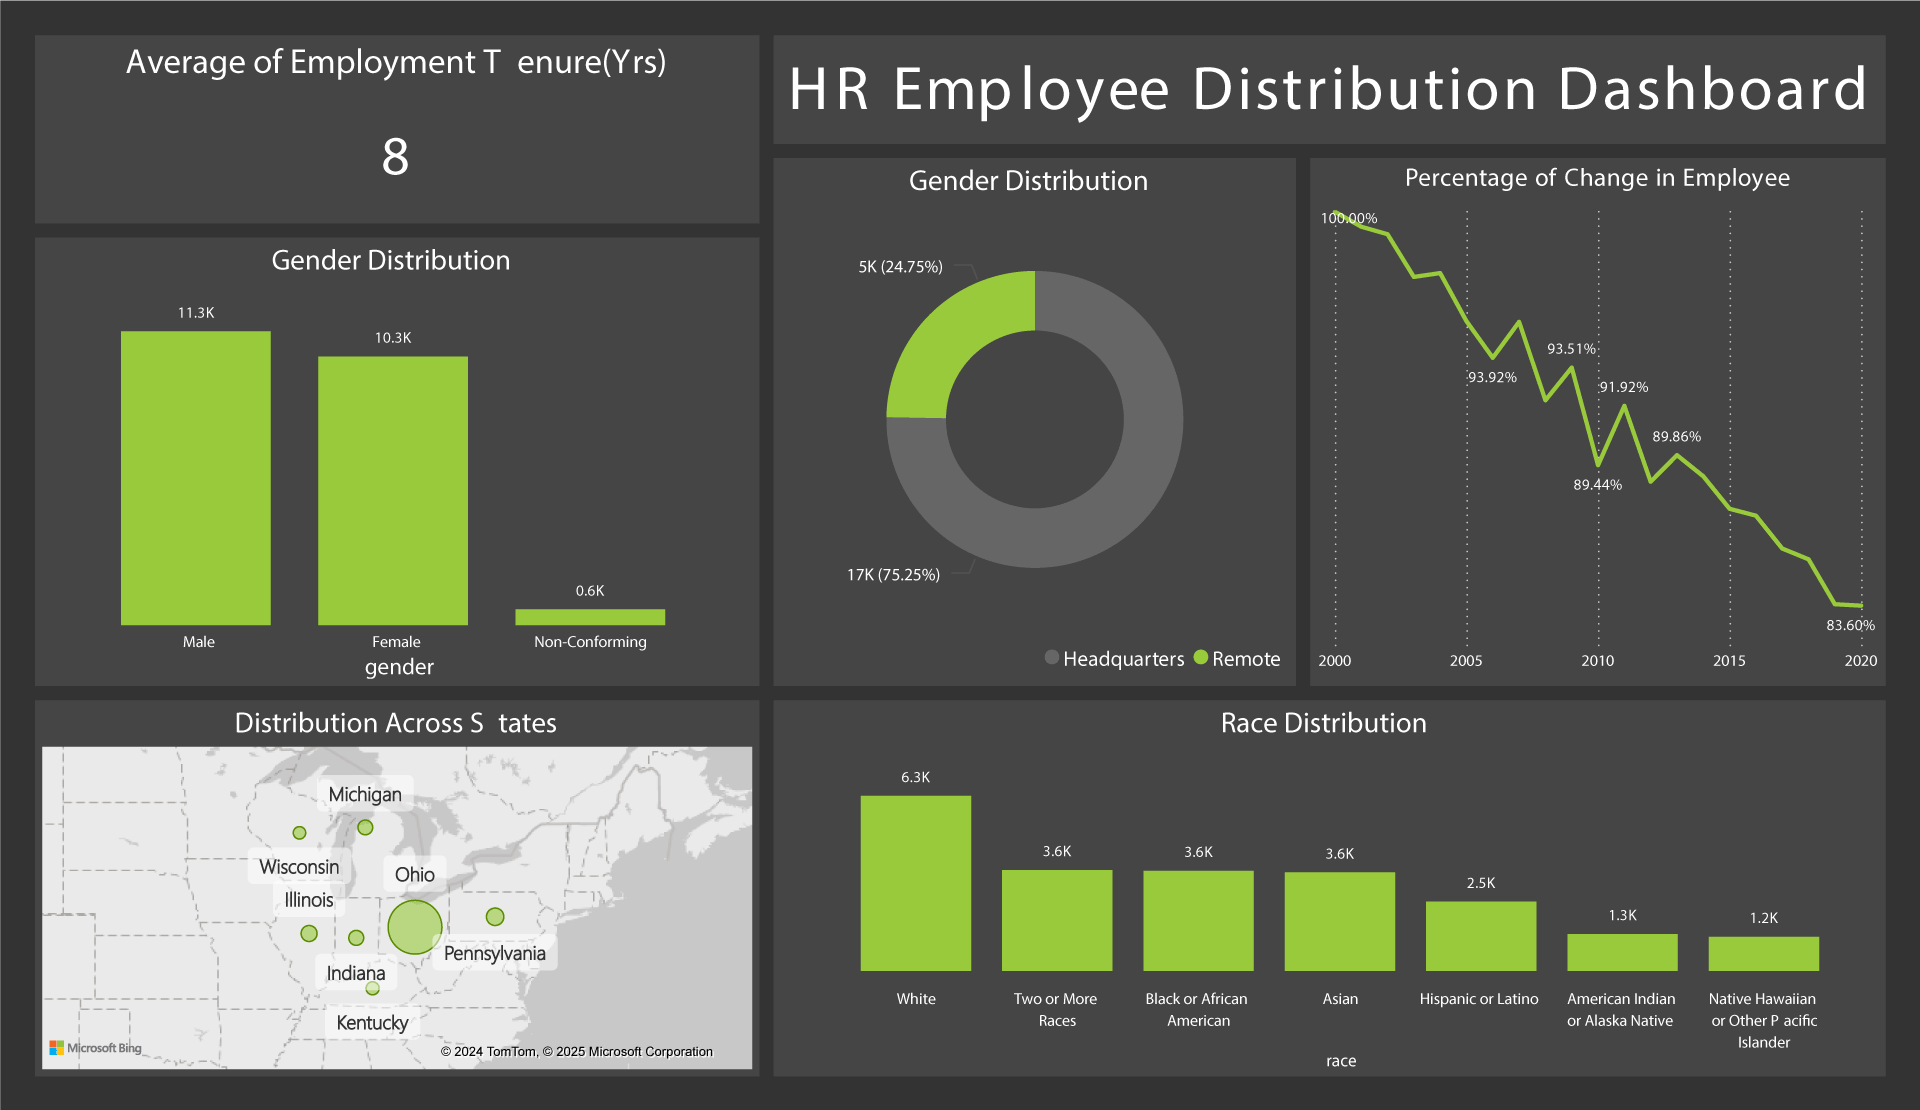

The dashboard page shown, as its layout file describes it:
{"tool":"powerbi","page":{"name":"Page 1","canvas":[1280,720],"ordinal":0},"visuals":[{"type":"card","title":"Average of Employment Tenure(Yrs)","fields":{"Values":["Avg(HR.employment_tenure)"]},"box":[0,0,501,130],"z":0},{"type":"columnChart","title":"Gender Distribution","fields":{"Category":["HR.gender"],"Y":["CountNonNull(HR.emp_id)"]},"box":[0,140,501,310],"z":1000},{"type":"map","title":"Distribution Across States","fields":{"Size":["CountNonNull(HR.location_state)"],"Category":["HR.location_state"]},"box":[0,460,501,260],"z":2000},{"type":"donutChart","title":"Gender Distribution","fields":{"Y":["CountNonNull(HR.emp_id)"],"Category":["HR.location"]},"box":[510.6,84.6,361.8,365.7],"z":3000},{"type":"textbox","box":[511,0,769,75],"z":4000},{"type":"lineChart","title":"Percentage of Change in Employee","fields":{"Category":["employee_change.Year"],"Y":["Avg(employee_change.net_change_percent)"]},"box":[882.2,84.6,397.8,365.7],"z":5000},{"type":"columnChart","title":"Race Distribution","fields":{"Category":["HR.race"],"Y":["CountNonNull(HR.emp_id)"]},"box":[510.6,460.1,769.4,259.7],"z":6000}]}

Visuals, with their boxes in screenshot pixels (x1, y1, x2, y2), scaled from the page's 1280x720 canvas onto the 1920x1110 screenshot:
"Average of Employment Tenure(Yrs)" card: 0:0:752:200
"Gender Distribution" columnChart: 0:216:752:694
"Distribution Across States" map: 0:709:752:1109
"Gender Distribution" donutChart: 766:130:1309:694
textbox: 766:0:1919:116
"Percentage of Change in Employee" lineChart: 1323:130:1919:694
"Race Distribution" columnChart: 766:709:1919:1109
